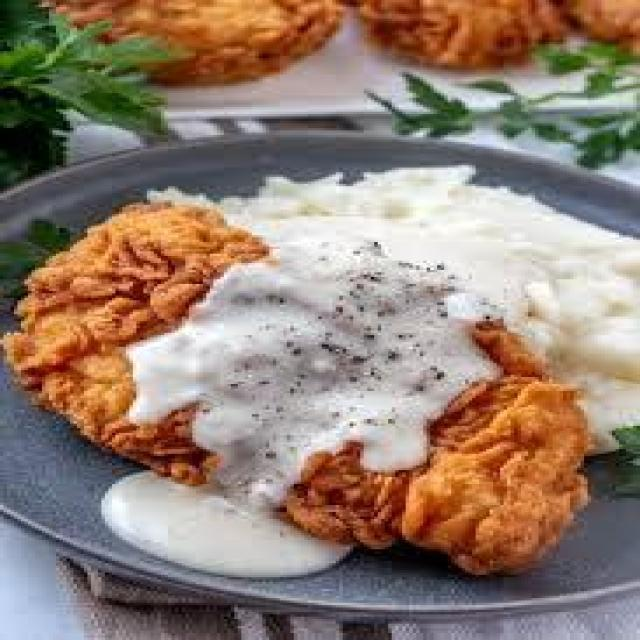Chicken -Fried Chicken-: (16, 186, 571, 560)
